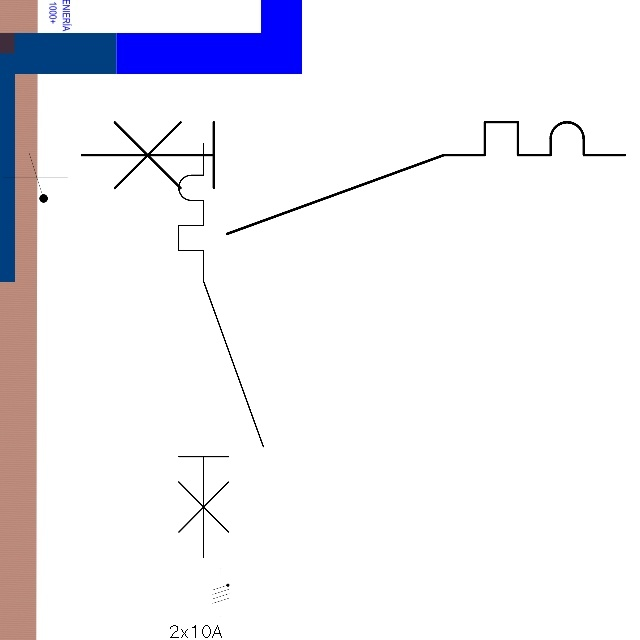interruptor_termomagnetico: (67, 108, 638, 248), (168, 133, 274, 567)
